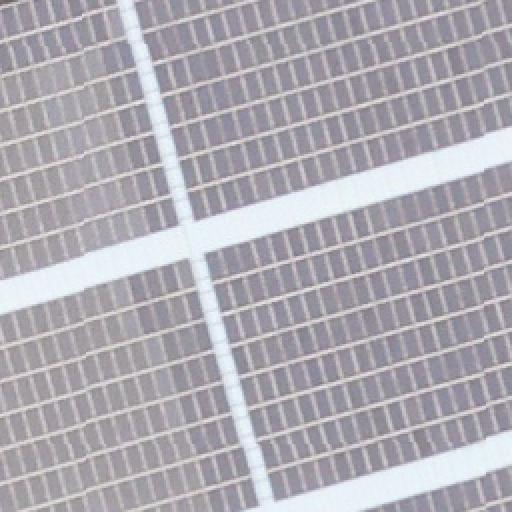solar-panel: (204, 163, 512, 501), (134, 1, 512, 223), (1, 257, 263, 511), (1, 1, 183, 279), (356, 464, 512, 512)
